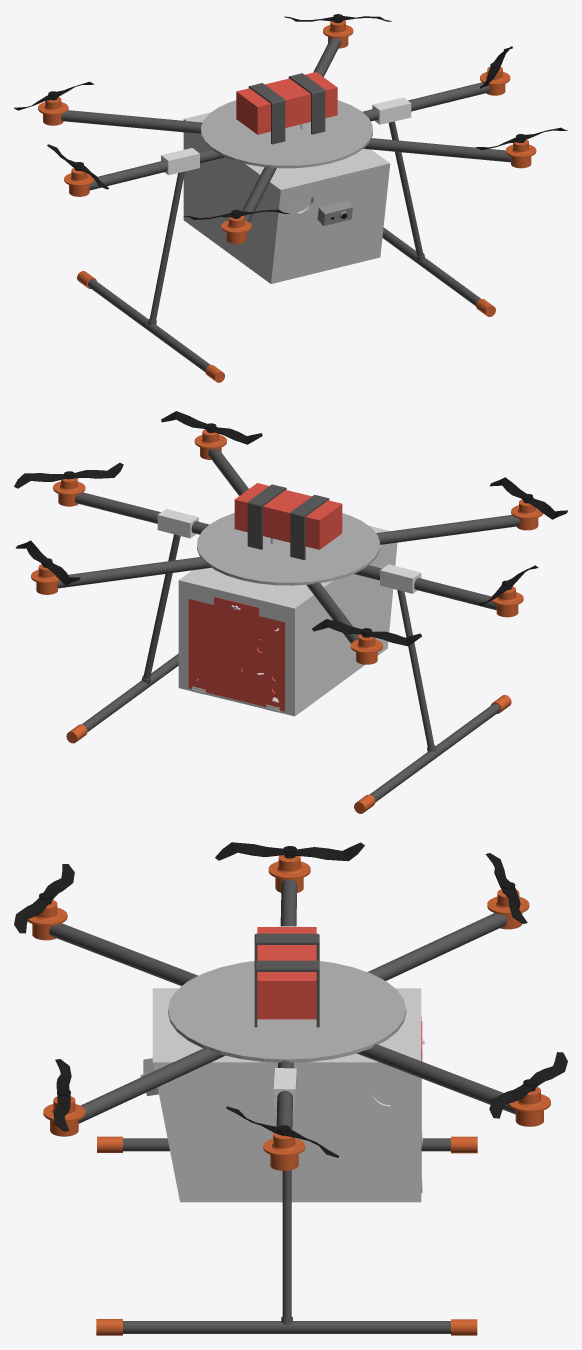
Rendered from drone_ligostik_29.fbx.
3 renders of one model, top to bottom at view 1: azimuth 30°, elevation 25°; view 2: azimuth 150°, elevation 25°; view 3: azimuth 270°, elevation 25°, orthographic. The views are drawn at different scales.
Visible parts, largest first — view 1: Cube, Cylinder.012, Cylinder.009, Cube.008, Cylinder.004, Cube.002, Cube.001, Cube.007; view 2: Cube, Cylinder.012, Cube.003, Cylinder.009, Cube.008, Cylinder.004, Cube.013, Cube.009, Cube.012, Cube.001, Cube.002, Cube.011 (+1 smaller); view 3: Cube, Cylinder.012, Cylinder.009, Cube.008, Cylinder.004, Cube.010, Cube.014, Cube.011, Cube.012, Cube.009, Cube.002.
Boxes of the visible parts, x1=… form: Cube: x1=183, y1=112, x2=390, y2=283; Cylinder.012: x1=61, y1=37, x2=510, y2=382; Cylinder.009: x1=201, y1=100, x2=372, y2=168; Cube.008: x1=236, y1=72, x2=337, y2=144; Cylinder.004: x1=38, y1=20, x2=536, y2=243; Cube.002: x1=372, y1=97, x2=411, y2=124; Cube.001: x1=161, y1=148, x2=199, y2=175; Cube.007: x1=317, y1=201, x2=352, y2=225; Cube: x1=178, y1=526, x2=397, y2=716; Cylinder.012: x1=57, y1=448, x2=520, y2=813; Cube.003: x1=188, y1=599, x2=284, y2=711; Cylinder.009: x1=197, y1=513, x2=379, y2=585; Cube.008: x1=234, y1=483, x2=342, y2=560; Cylinder.004: x1=31, y1=429, x2=543, y2=664; Cube.013: x1=14, y1=462, x2=123, y2=488; Cube.009: x1=312, y1=619, x2=421, y2=646; Cube.012: x1=161, y1=411, x2=262, y2=444; Cube.001: x1=380, y1=564, x2=421, y2=593; Cube.002: x1=157, y1=509, x2=198, y2=538; Cube.011: x1=490, y1=477, x2=567, y2=519; Cube: x1=152, y1=988, x2=421, y2=1202; Cylinder.012: x1=49, y1=879, x2=515, y2=1335; Cylinder.009: x1=168, y1=961, x2=406, y2=1062; Cube.008: x1=254, y1=927, x2=319, y2=1027; Cylinder.004: x1=27, y1=855, x2=550, y2=1170; Cube.010: x1=215, y1=842, x2=364, y2=861; Cube.014: x1=489, y1=1052, x2=567, y2=1118; Cube.011: x1=14, y1=864, x2=74, y2=933; Cube.012: x1=53, y1=1059, x2=71, y2=1131; Cube.009: x1=485, y1=853, x2=527, y2=923; Cube.002: x1=273, y1=1068, x2=296, y2=1108.
Bounding box in the file's own units: 200 × 87.97 × 151.
